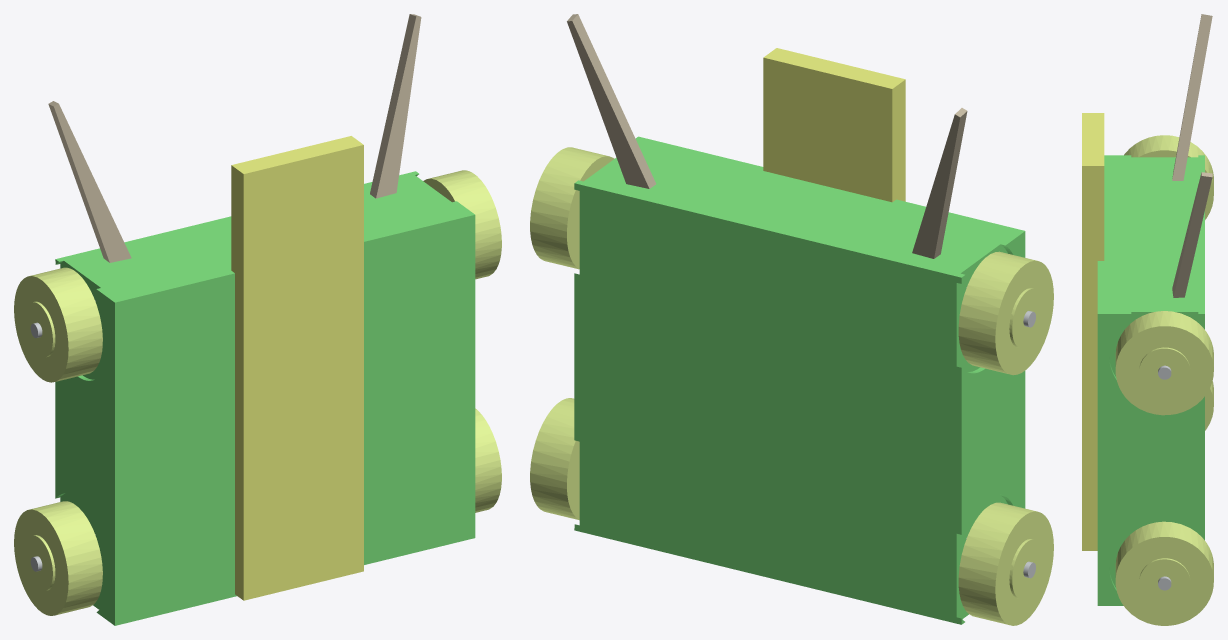
The model's file is baby_boomer.glb.
The picture shows the model from 3 angles, left to right: view 1: azimuth 30°, elevation 25°; view 2: azimuth 150°, elevation 25°; view 3: azimuth 270°, elevation 25°; orthographic projection. The views are drawn at different scales.
Parts seen in each view (by area): view 1: chassis, flipper, wheel_r0, wheel_r1, fork_1, wheel_l1, fork_0, wheel_l0; view 2: chassis, flipper, wheel_r0, wheel_r1, wheel_l1, wheel_l0, fork_1, fork_0; view 3: chassis, wheel_l0, wheel_l1, flipper, fork_0, fork_1, wheel_r1, wheel_r0.
Boxes of the visible parts, left/top/right/bottom form: chassis: left=55, top=171, right=475, bottom=625; flipper: left=231, top=136, right=363, bottom=600; wheel_r0: left=14, top=501, right=102, bottom=615; wheel_r1: left=14, top=267, right=102, bottom=382; fork_1: left=370, top=14, right=421, bottom=198; wheel_l1: left=423, top=170, right=501, bottom=279; fork_0: left=48, top=101, right=131, bottom=262; wheel_l0: left=475, top=408, right=501, bottom=512; chassis: left=574, top=136, right=1025, bottom=624; flipper: left=763, top=48, right=905, bottom=202; wheel_r0: left=958, top=502, right=1053, bottom=625; wheel_r1: left=958, top=251, right=1053, bottom=375; wheel_l1: left=530, top=147, right=614, bottom=269; wheel_l0: left=530, top=398, right=579, bottom=520; fork_1: left=567, top=14, right=655, bottom=188; fork_0: left=912, top=108, right=967, bottom=258; chassis: left=1097, top=155, right=1204, bottom=605; wheel_l0: left=1115, top=521, right=1213, bottom=625; wheel_l1: left=1115, top=311, right=1213, bottom=415; flipper: left=1082, top=113, right=1104, bottom=550; fork_0: left=1172, top=14, right=1212, bottom=180; fork_1: left=1172, top=172, right=1212, bottom=297; wheel_r1: left=1124, top=135, right=1213, bottom=219; wheel_r0: left=1205, top=381, right=1213, bottom=430.
Size of the model in its own units: 104 by 108 by 29.49.
